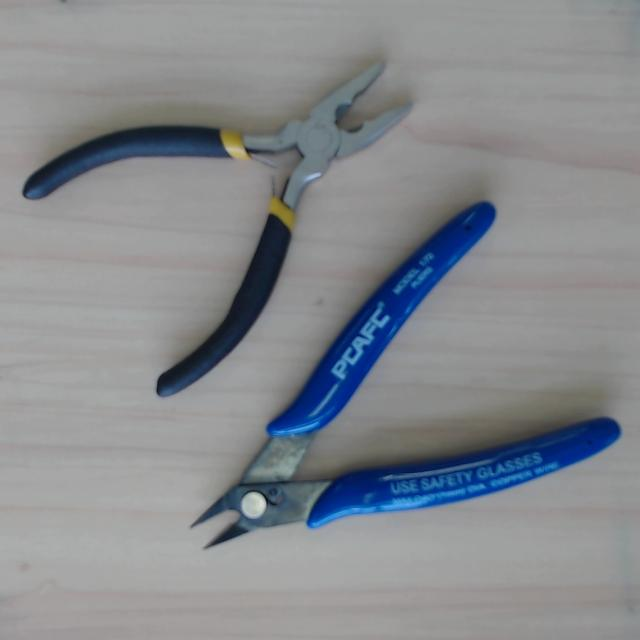Tang-Potong-Biru: (125, 197, 625, 640)
